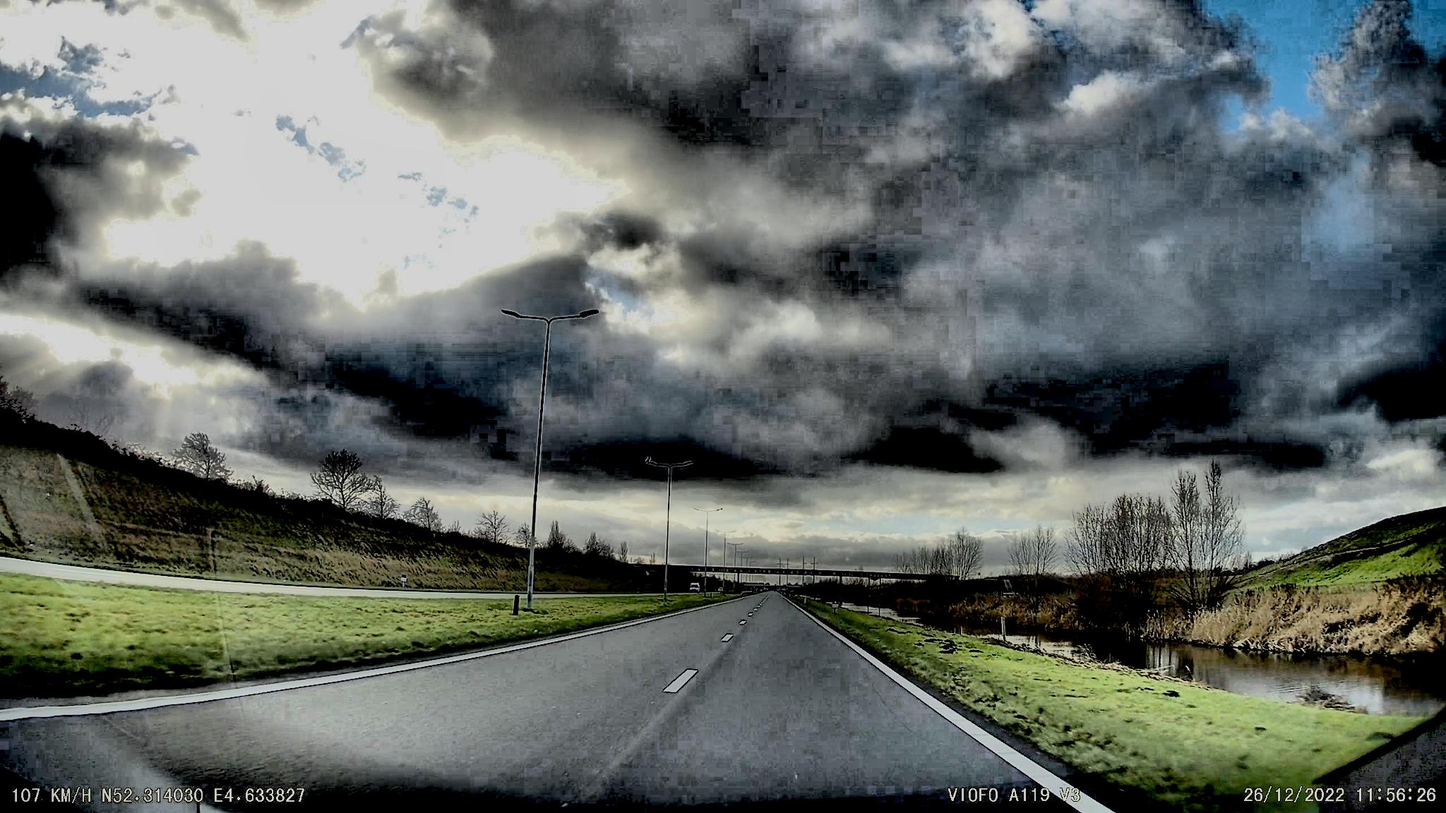Roads: (0, 593, 1157, 813)
